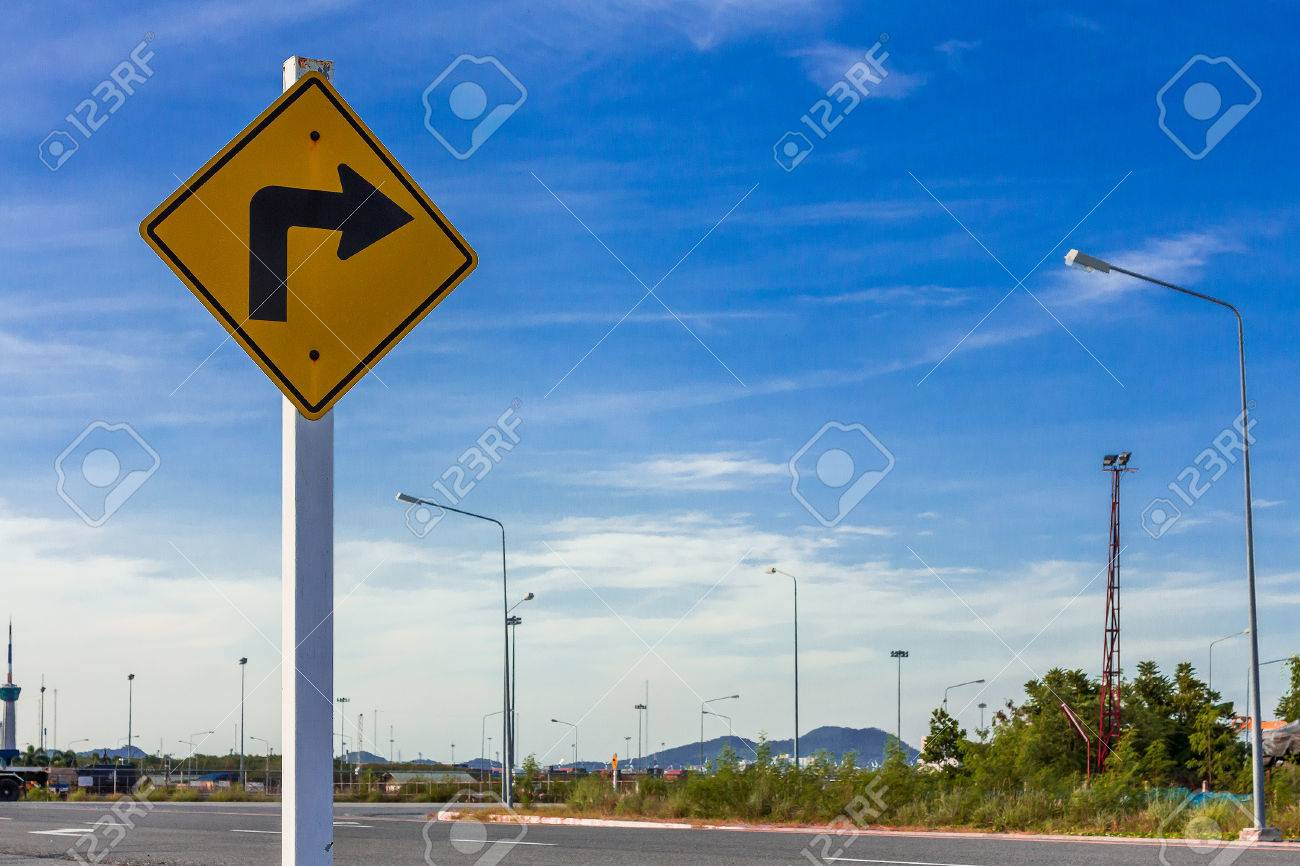right: (124, 69, 480, 425)
